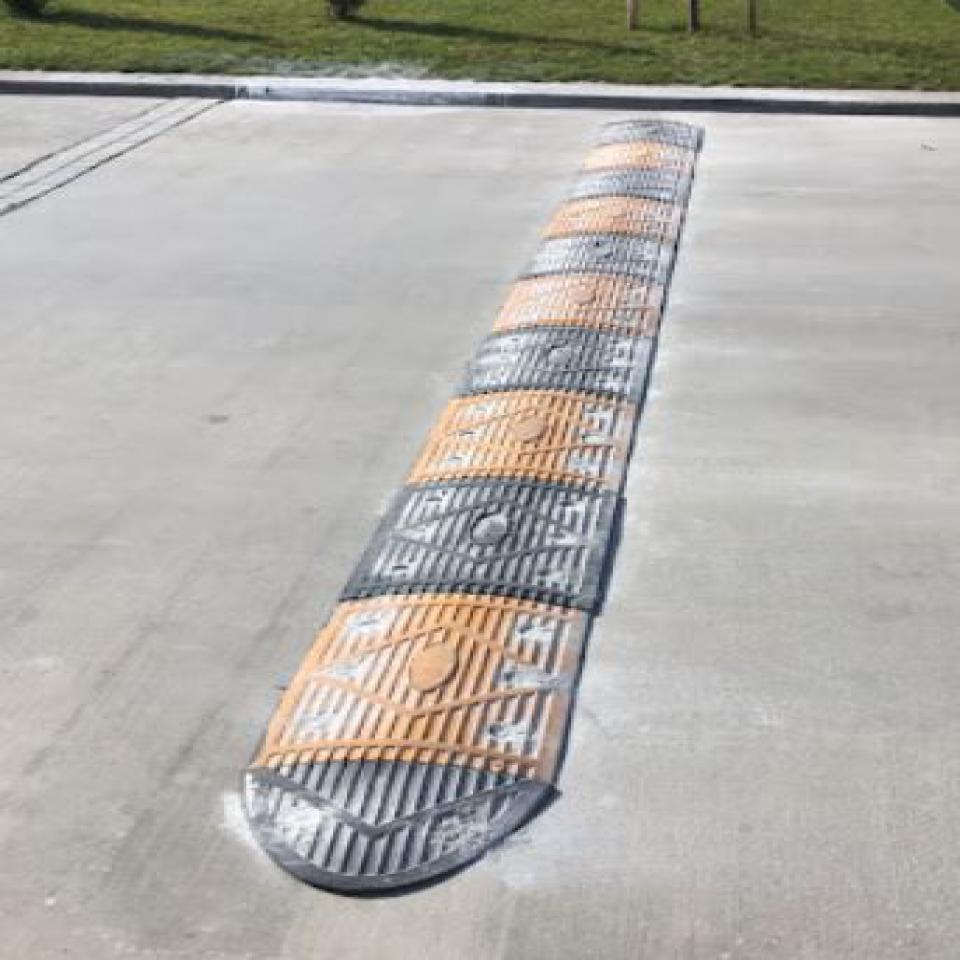speedbreaker: (357, 91, 749, 933)
